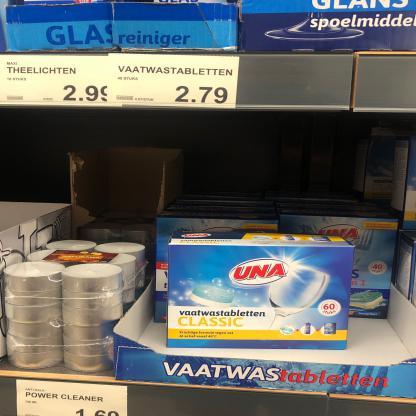prtg: (106, 54, 241, 111), (1, 56, 124, 108), (16, 380, 129, 415)
